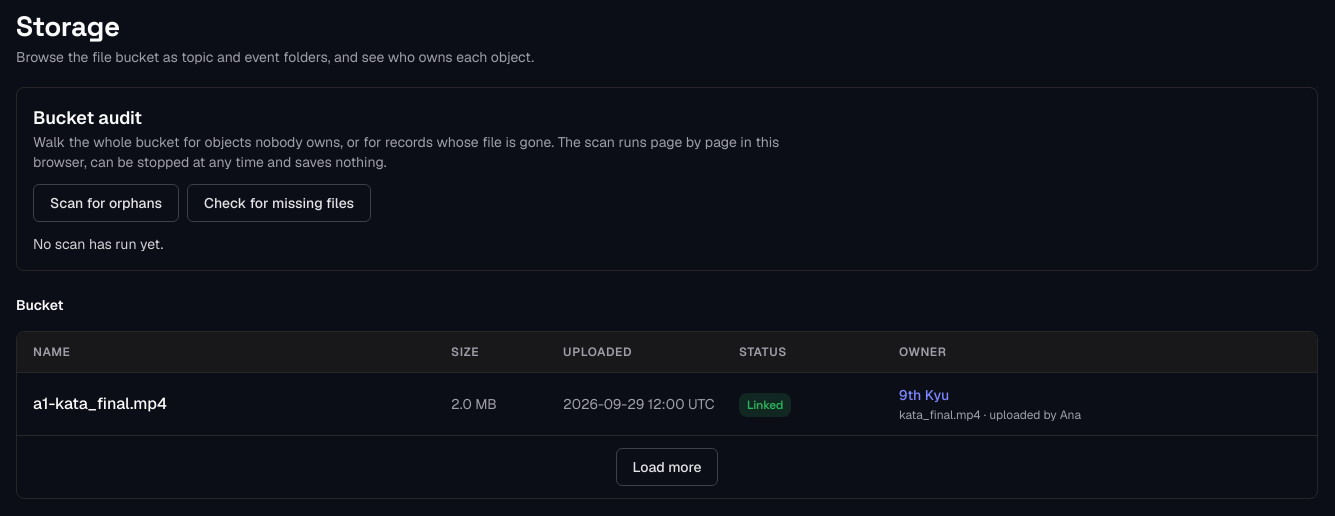
Test: AdminStoragePage › shows "Load more" only with a nextCursor and sends that cursor
Click the button "Load more": (667, 467) [616,448,718,486]
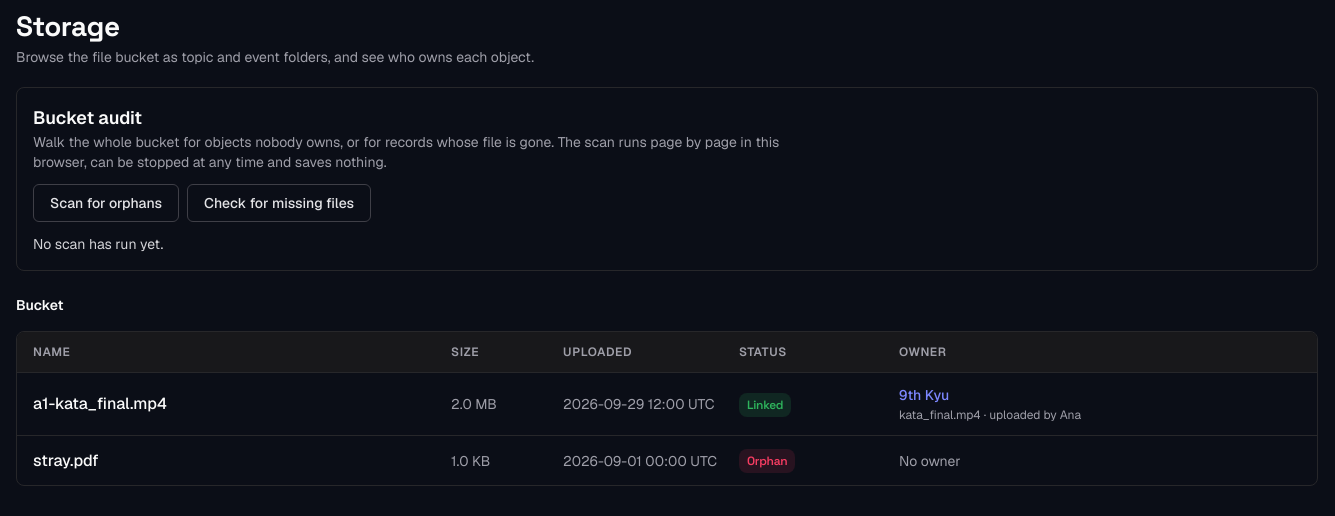
Now the button "Load more" is gone
